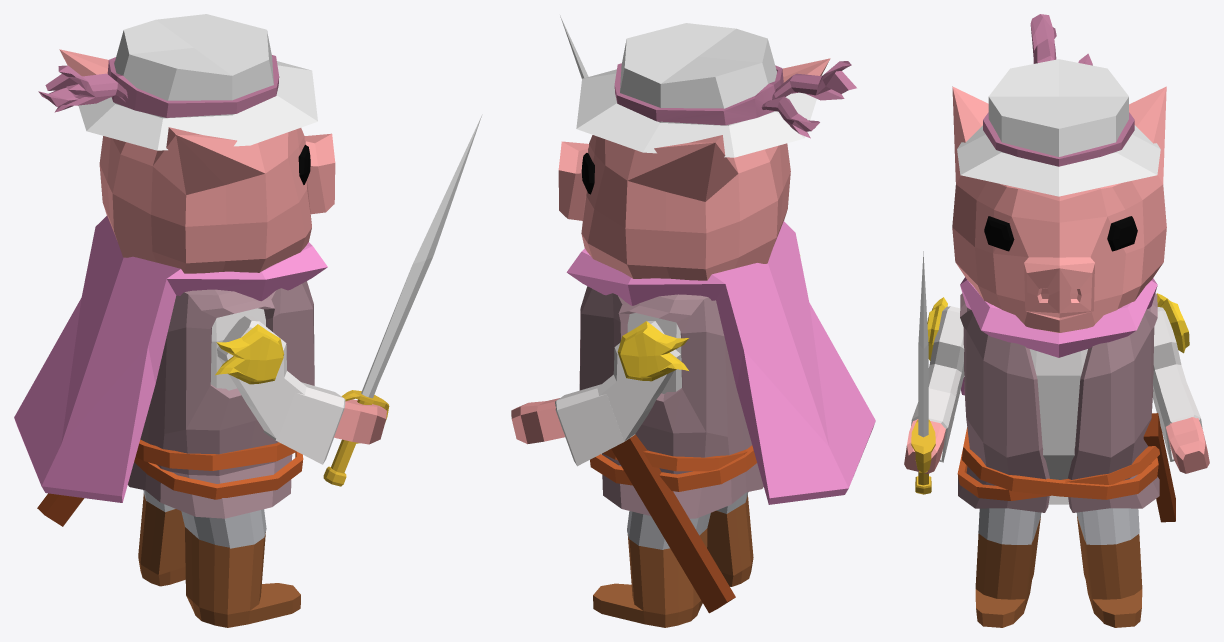
The model's file is duelist.glb.
3 views of the same model, side by side, from view 1: azimuth 30°, elevation 25°; view 2: azimuth 150°, elevation 25°; view 3: azimuth 270°, elevation 25° (orthographic). The views are drawn at different scales.
Visible parts, largest first — view 1: duelist; view 2: duelist; view 3: duelist.
Boxes of the visible parts, left/top/right/bottom form: duelist: left=14, top=14, right=482, bottom=627; duelist: left=511, top=15, right=875, bottom=627; duelist: left=904, top=14, right=1209, bottom=627.
Bounding box in the file's own units: 3.67 × 5.4 × 2.88.
12 materials, 3 textured.
